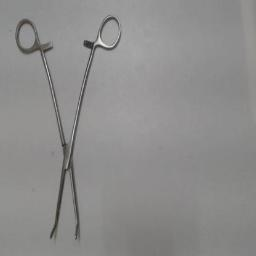Lahey Forceps: (13, 10, 123, 244)
